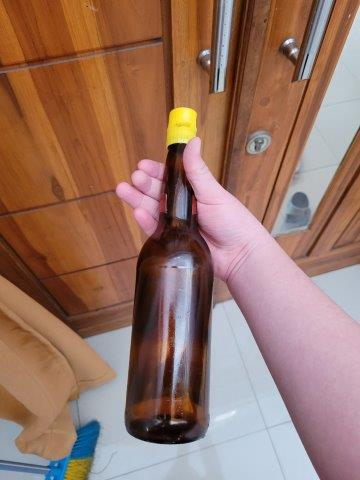botolkaca: (125, 107, 214, 444)
